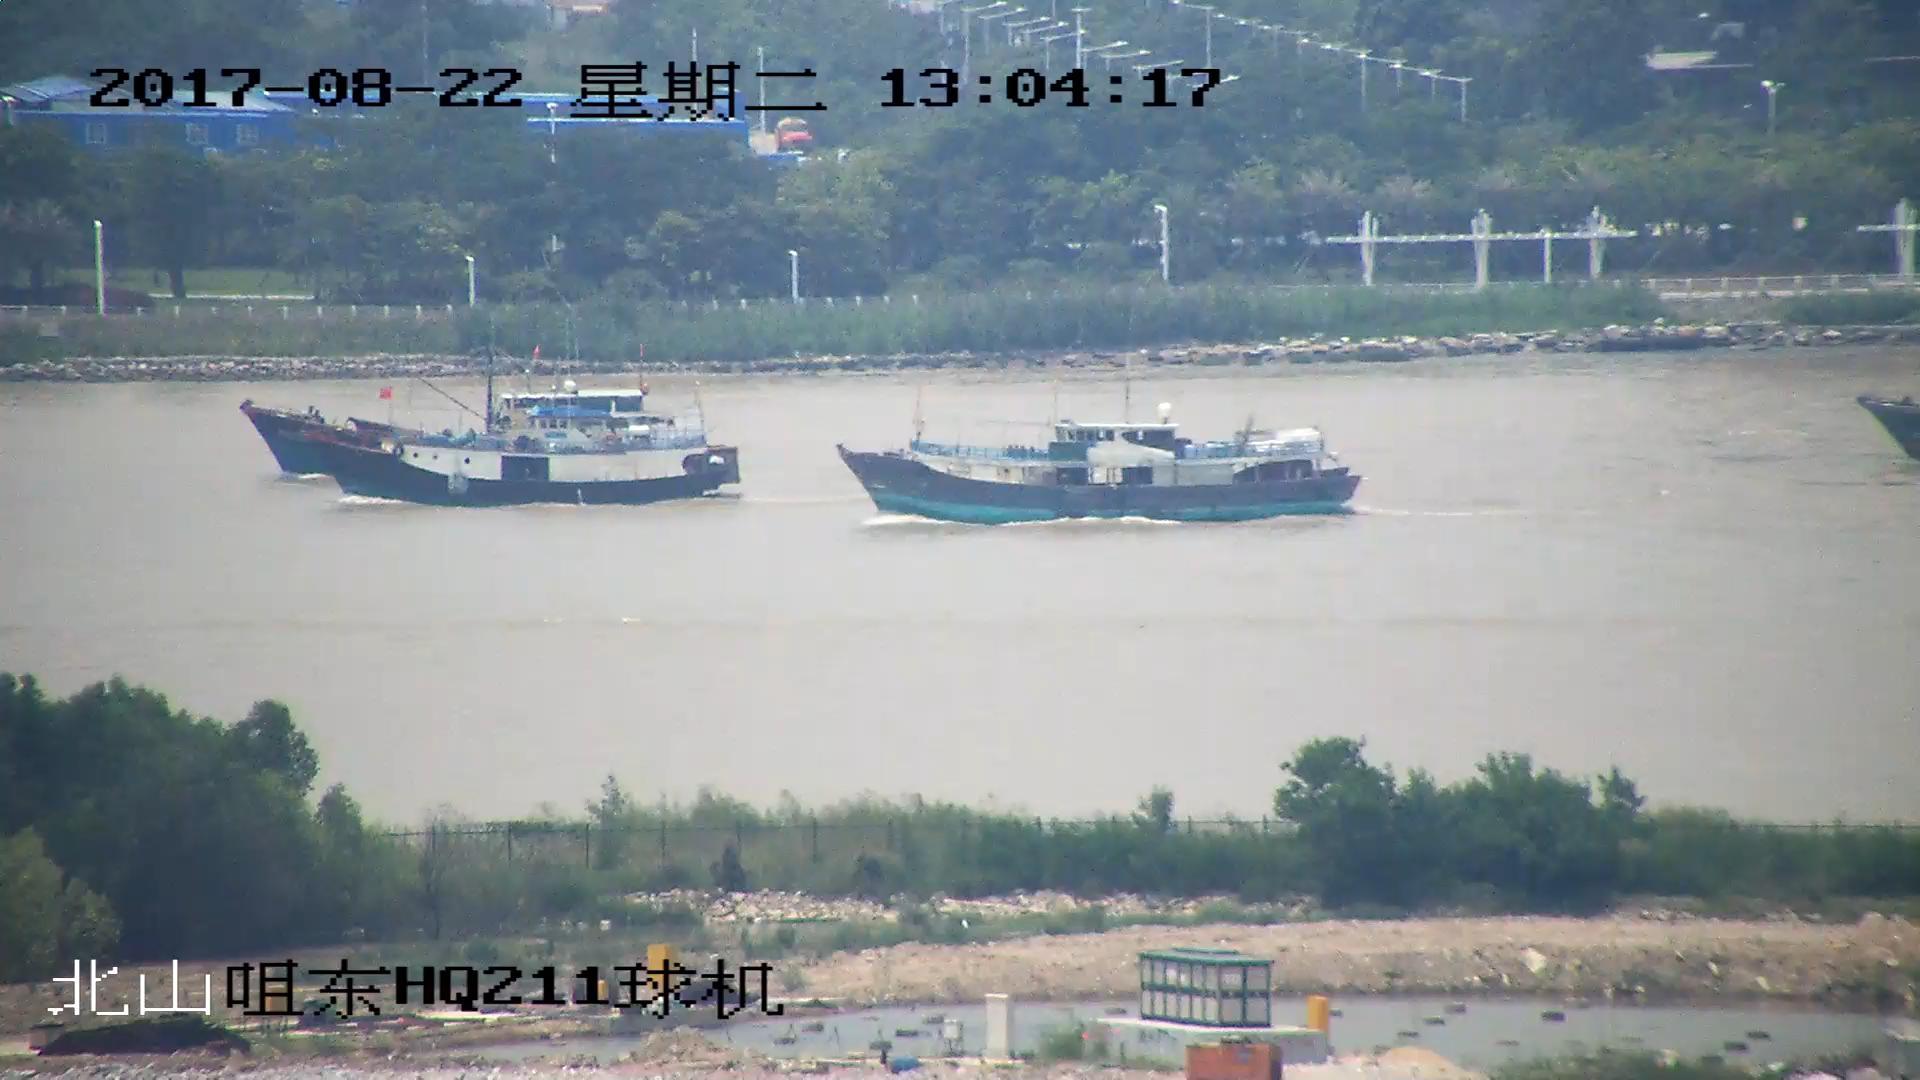fishing boat: (836, 403, 1357, 524), (331, 386, 738, 510), (242, 374, 659, 478)
